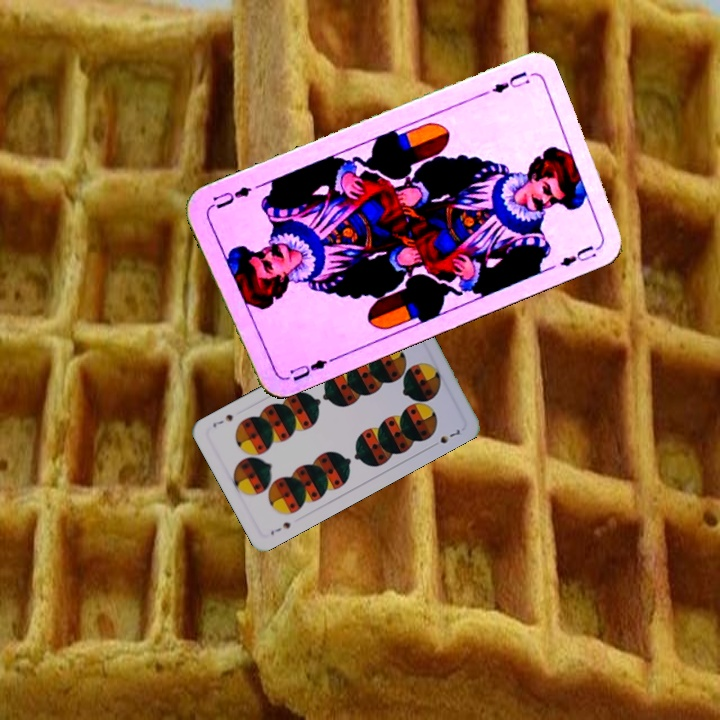EU: (487, 67, 533, 96), (285, 355, 329, 384)
S7: (266, 518, 293, 538)
